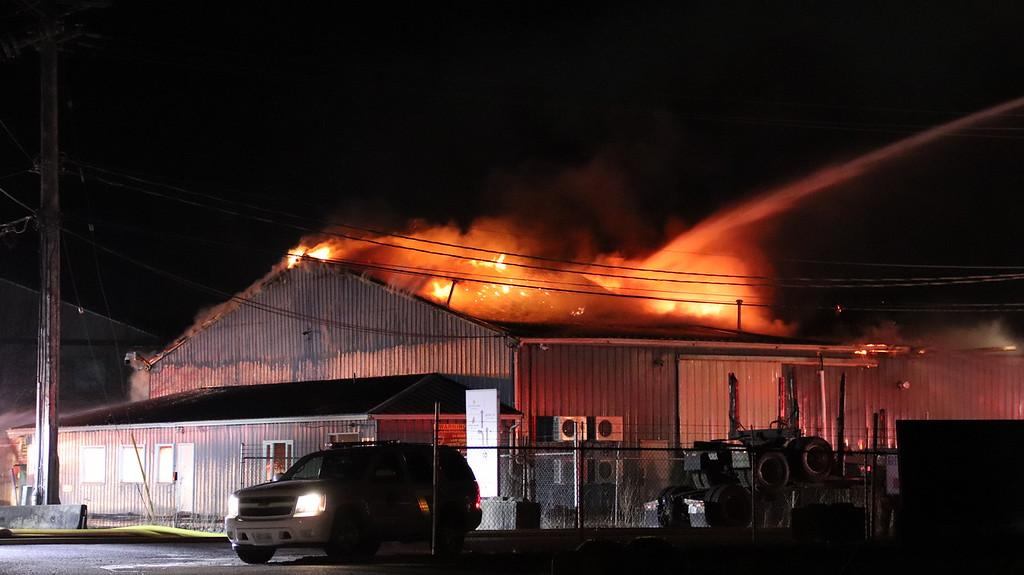fire: (308, 236, 602, 313)
